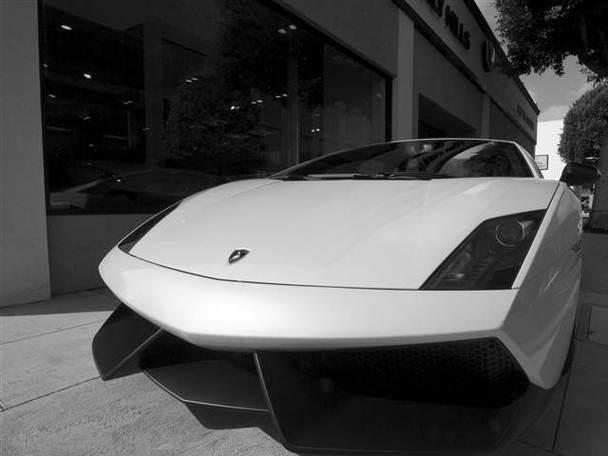car: (93, 137, 586, 456)
